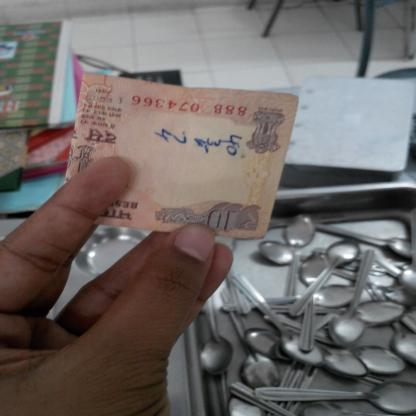Old10Front: (65, 72, 300, 240)
